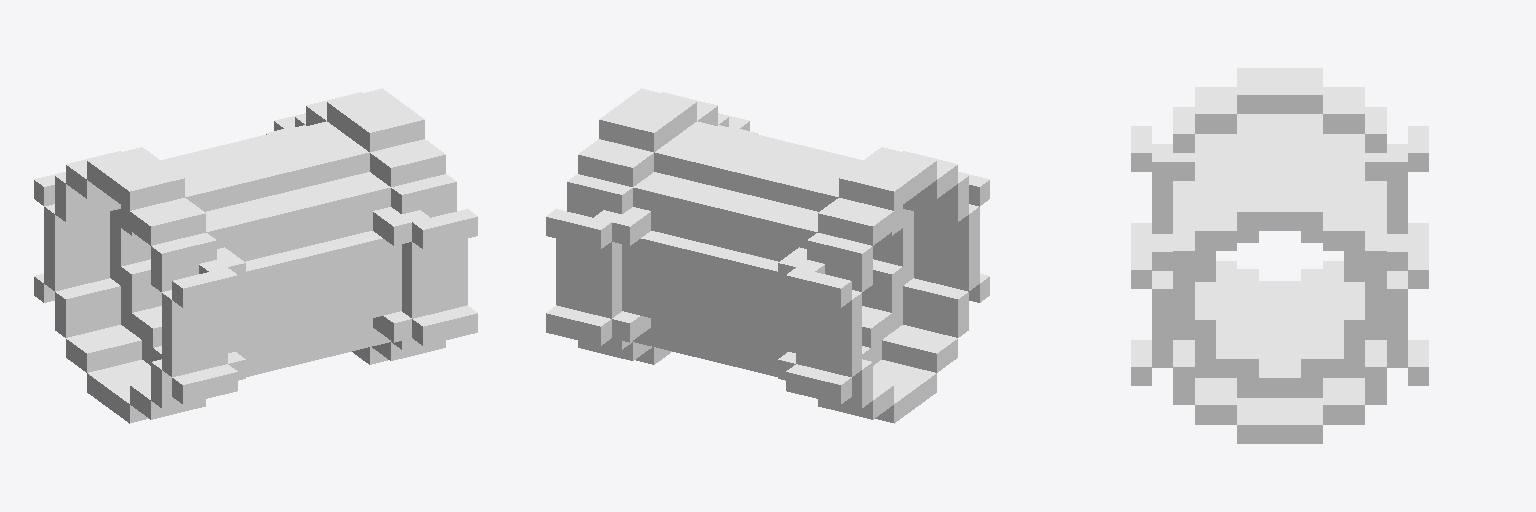
Rendered from tunnelKit_tunnelLink_01_v1.obj.
3 renders of one model, left to right at view 1: azimuth 30°, elevation 25°; view 2: azimuth 150°, elevation 25°; view 3: azimuth 270°, elevation 25°, orthographic.
Visible parts, largest first — view 1: object 1; view 2: object 1; view 3: object 1.
Boxes of the visible parts, box(x1,y1,x2,y2) form: object 1: box(34, 88, 477, 423); object 1: box(546, 88, 989, 423); object 1: box(1131, 68, 1428, 443).
Size of the model in its own units: 1.6 by 1.2 by 1.4.